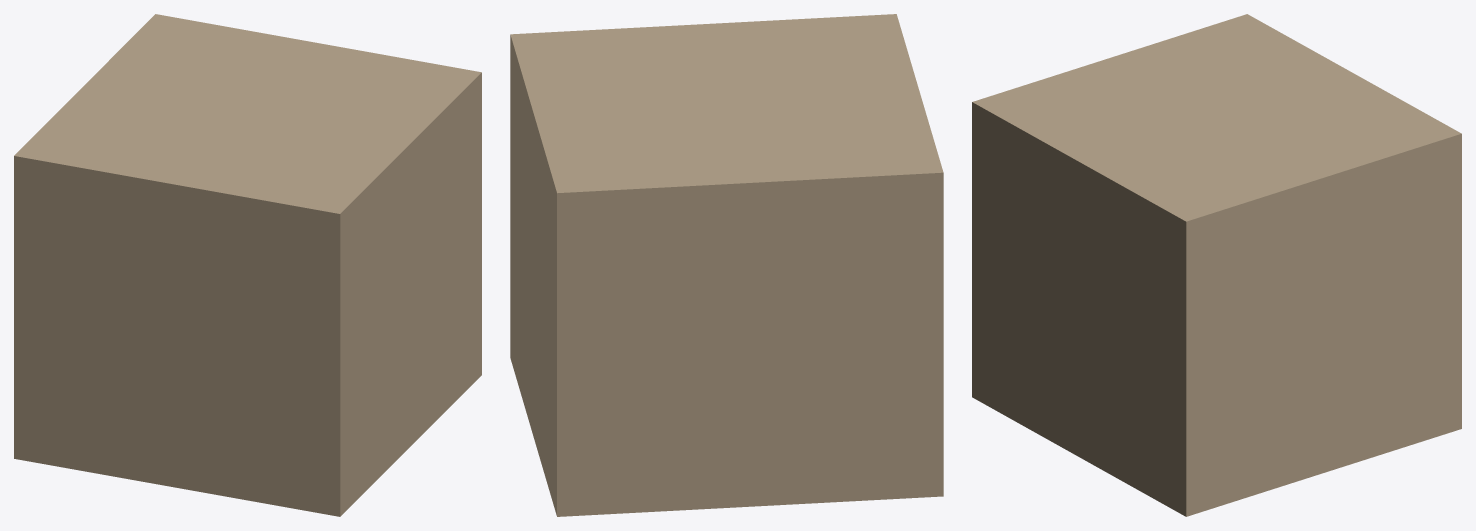
The model's file is bld_106456106.dae.
3 views of the same model, side by side, from view 1: azimuth 30°, elevation 25°; view 2: azimuth 150°, elevation 25°; view 3: azimuth 270°, elevation 25° (orthographic). The views are drawn at different scales.
Parts seen in each view (by area): view 1: bld_106456106; view 2: bld_106456106; view 3: bld_106456106.
Boxes of the visible parts, x1,y1,x2,y2 form: bld_106456106: (14,14,481,516); bld_106456106: (510,14,943,516); bld_106456106: (972,14,1461,516).
Bounding box in the file's own units: 12.07 × 12.03 × 8.
